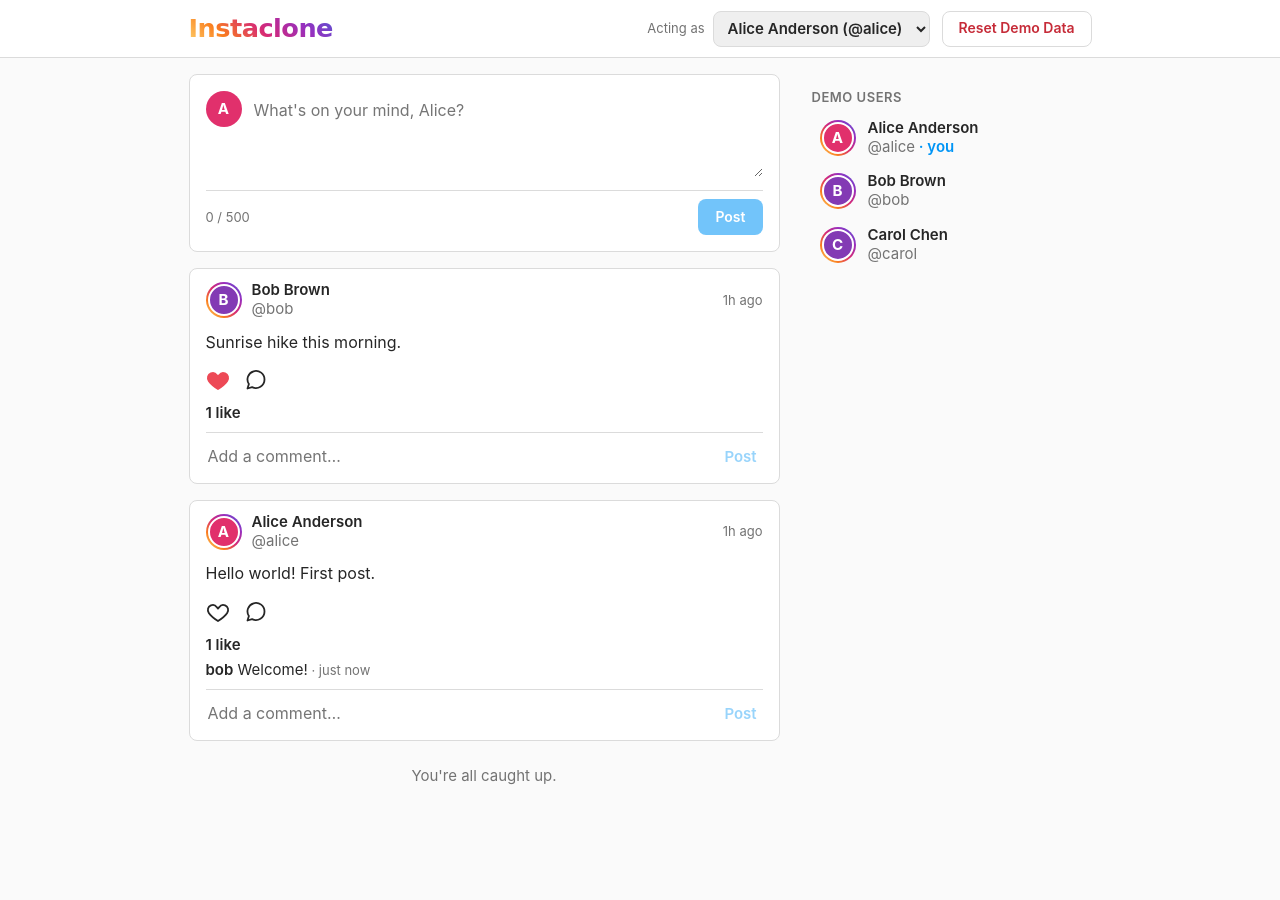
Test: reset demo data › resets on confirm, refreshes data and announces success
Click the button "Reset Demo Data": coordinates (1017, 28) [942,10,1092,46]
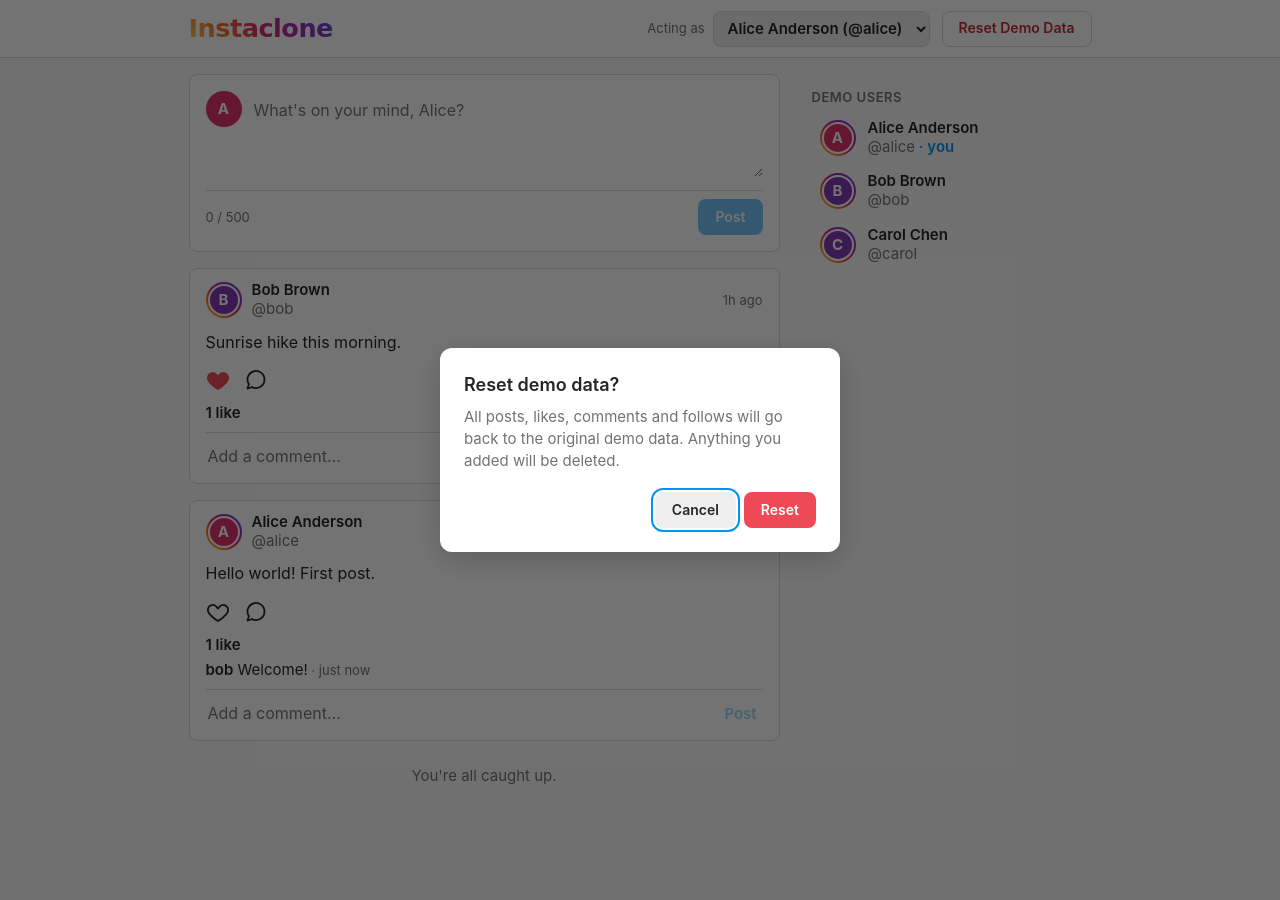
Click the button "Reset": coordinates (780, 510) [744,492,816,528]
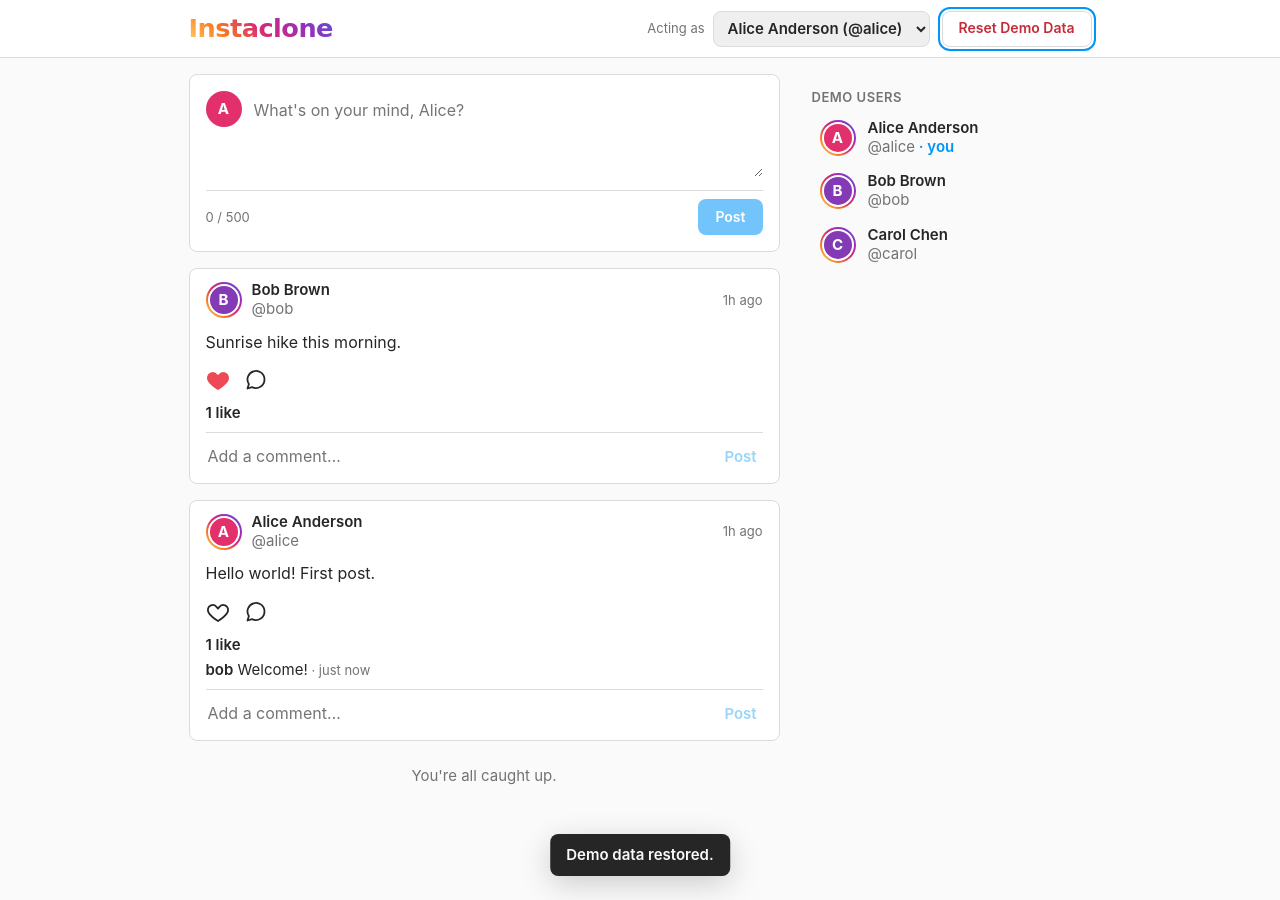
Now the text "Demo data restored." is shown, box [550,834,730,876]
Now the dialog is gone
